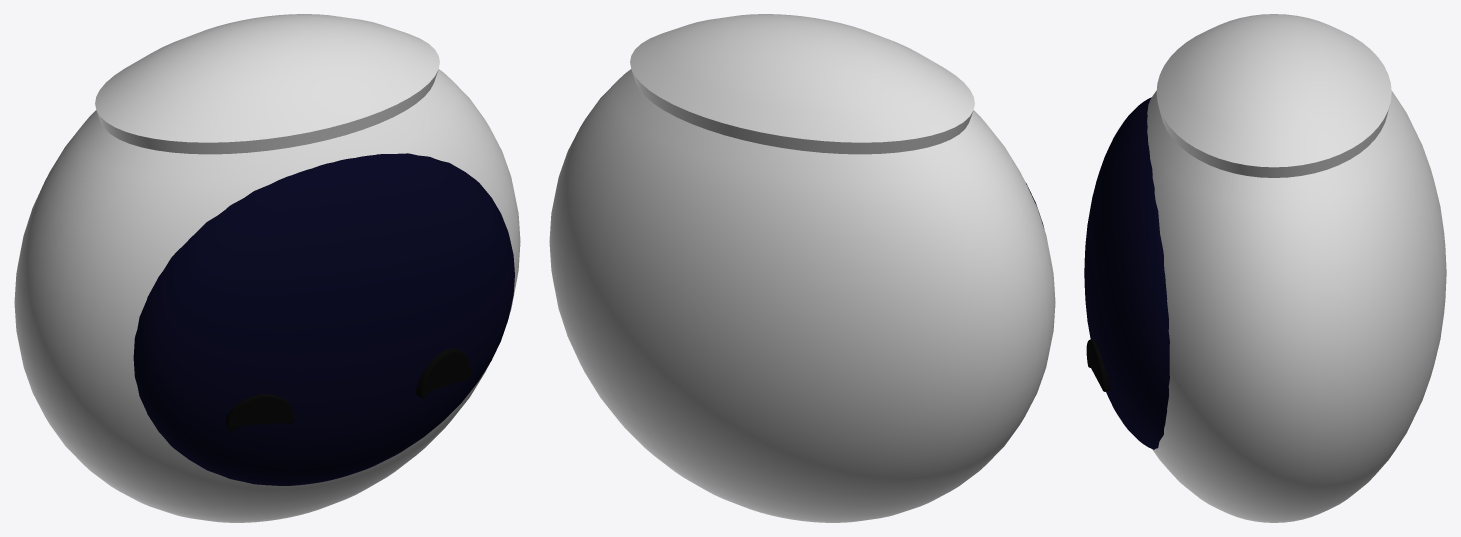
File: Head.obj
The picture shows the model from 3 angles, left to right: view 1: azimuth 30°, elevation 25°; view 2: azimuth 150°, elevation 25°; view 3: azimuth 270°, elevation 25°; orthographic projection. The views are drawn at different scales.
Visible parts, largest first — view 1: Head, Front, Left_eye, Right_eye; view 2: Head; view 3: Head, Front, Right_eye.
Part boxes in pixels (x1,y1,x2,y2): Head: [14, 14, 520, 522]; Front: [133, 153, 514, 485]; Left_eye: [225, 394, 294, 431]; Right_eye: [415, 348, 470, 398]; Head: [549, 14, 1055, 522]; Head: [1147, 14, 1446, 522]; Front: [1084, 97, 1169, 449]; Right_eye: [1086, 339, 1111, 391].
Bounding box in the file's own units: 65.27 × 62.56 × 45.36.
